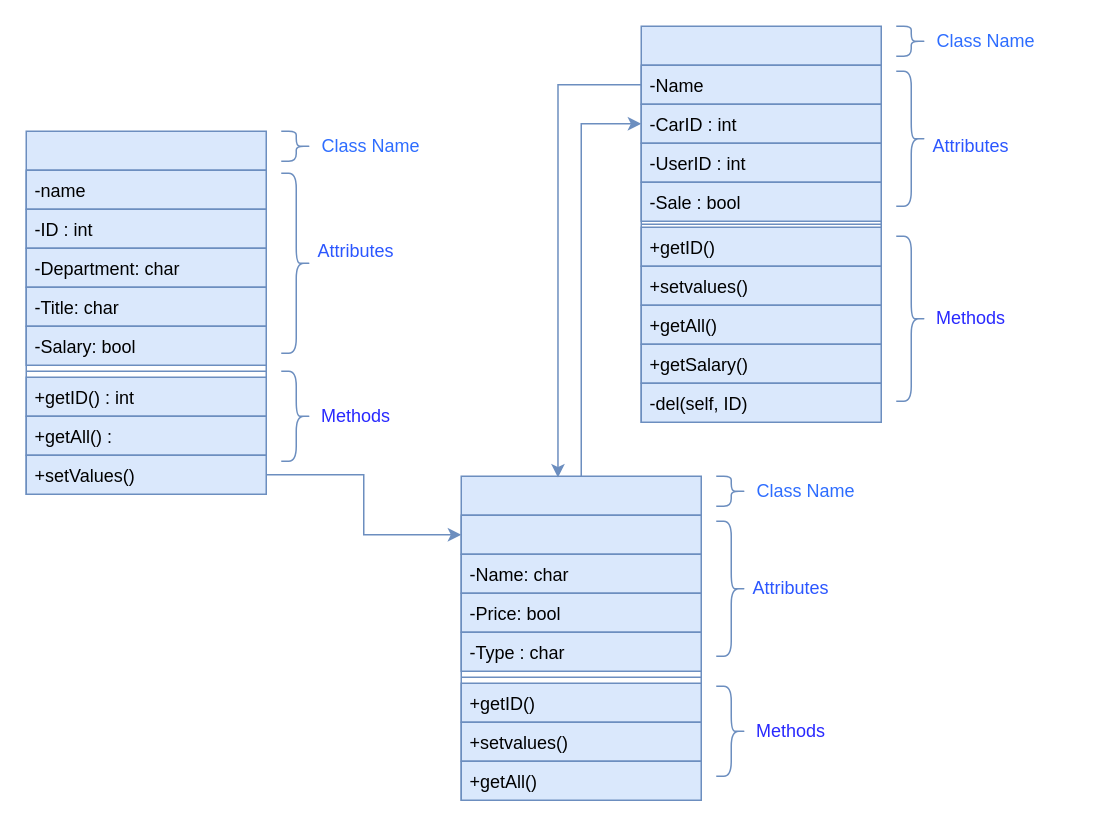
Image size: 1103x831. Some labels were removed from this diagram. The box of each missing label's shape, as (x1, y1, x2, y2) in pixels:
-ID: int: (460, 514, 701, 554)
Car: (460, 475, 701, 800)
Employee: (25, 130, 266, 494)
Sales: (640, 25, 881, 422)
